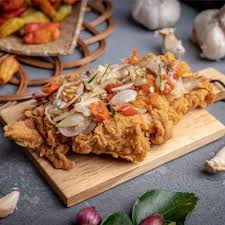ayam_geprek: (5, 54, 212, 171)
